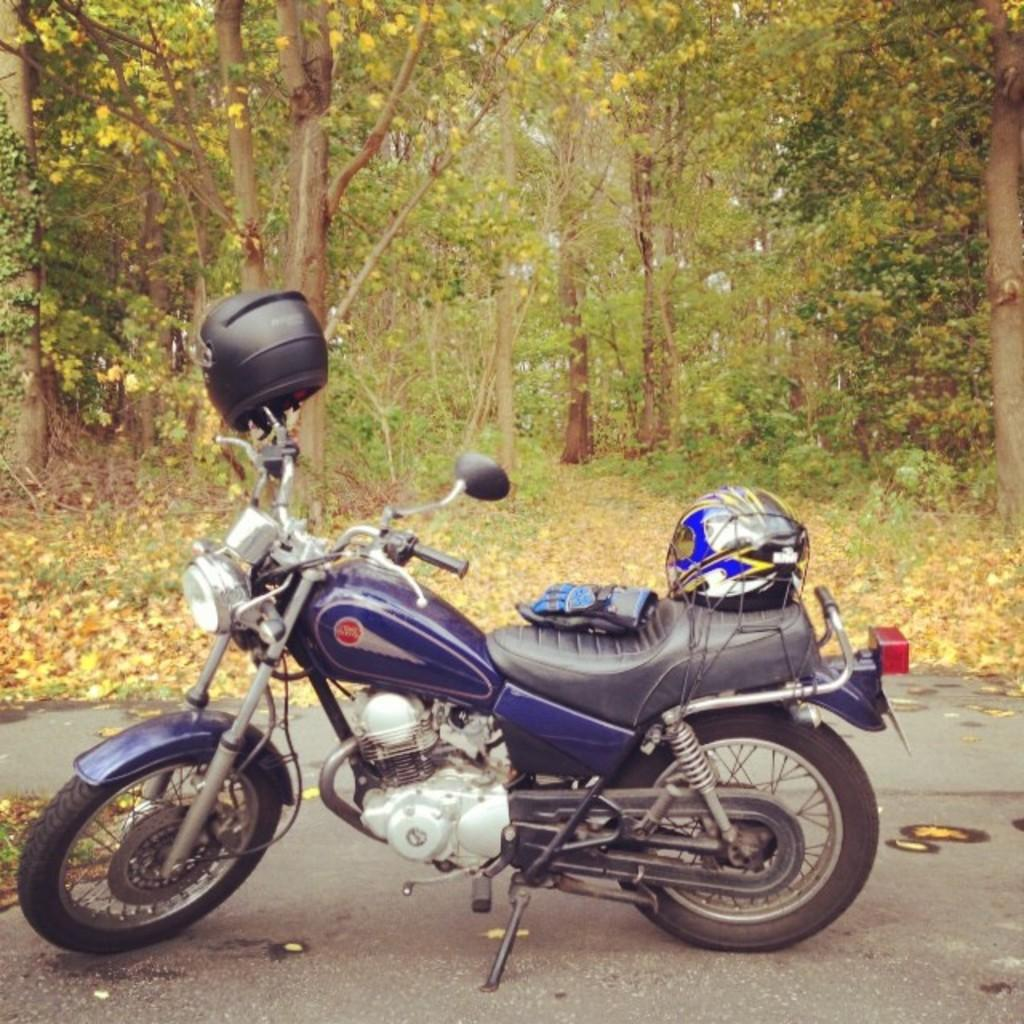helmet: (186, 288, 329, 433), (664, 486, 811, 611)
